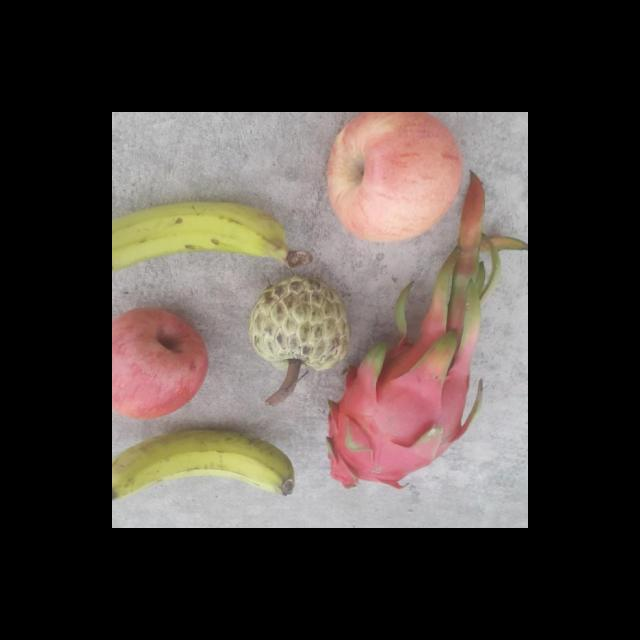Sakya fruit: (243, 271, 354, 381)
apple: (317, 112, 464, 242), (112, 303, 212, 420)
banana: (112, 424, 299, 528), (112, 197, 304, 288)
pitaya: (323, 318, 484, 490)
